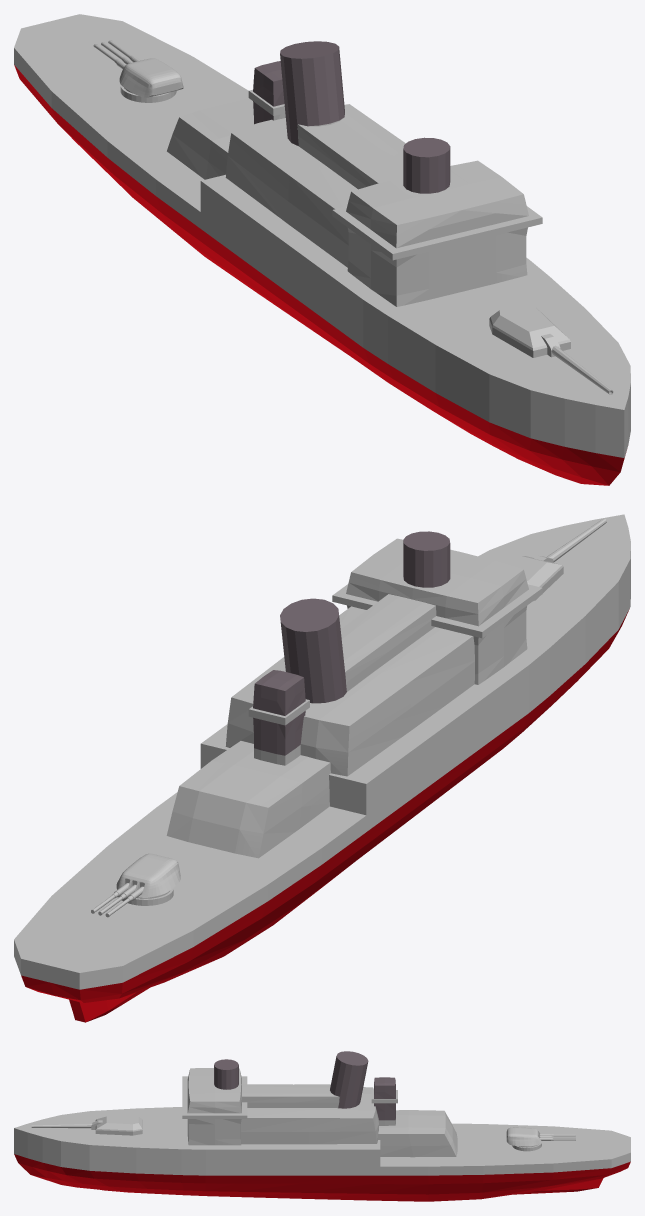
File: small_classic1.fbx
3 renders of one model, top to bottom at view 1: azimuth 30°, elevation 25°; view 2: azimuth 150°, elevation 25°; view 3: azimuth 270°, elevation 25°, orthographic. The views are drawn at different scales.
Visible parts, largest first — view 1: small_classic1; view 2: small_classic1; view 3: small_classic1.
Boxes of the visible parts, <box> form: small_classic1: <box>14,14,630,485</box>; small_classic1: <box>14,514,630,1022</box>; small_classic1: <box>14,1051,630,1201</box>.
Size of the model in its own units: 462 by 700 by 2770.
